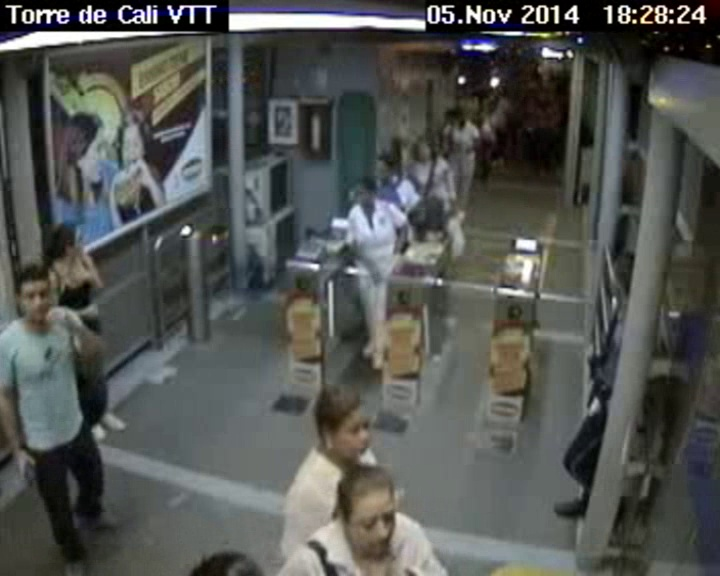person: (320, 459, 399, 558), (305, 379, 376, 460), (7, 269, 67, 322), (603, 250, 652, 311), (51, 218, 96, 266), (349, 167, 380, 209), (373, 149, 406, 186), (410, 136, 434, 164), (448, 109, 471, 127)
